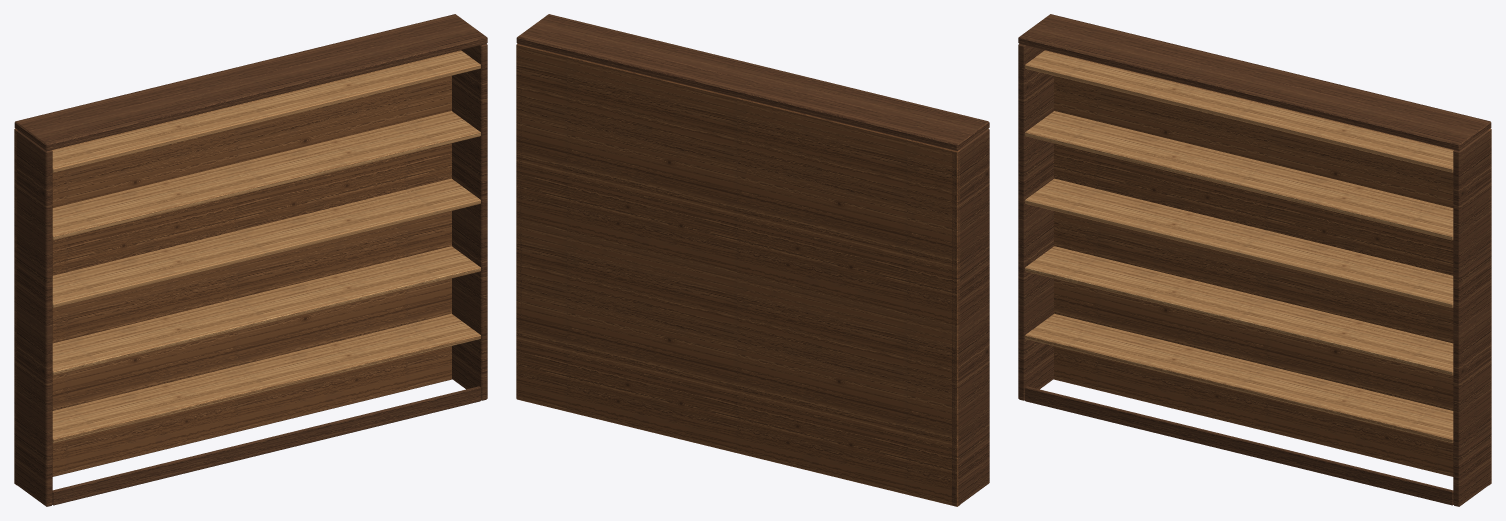
Rendered from open_shelf5.glb.
The picture shows the model from 3 angles, left to right: view 1: azimuth 30°, elevation 25°; view 2: azimuth 150°, elevation 25°; view 3: azimuth 330°, elevation 25°; orthographic projection.
Parts seen in each view (by area): view 1: p; view 2: p; view 3: p.
Part boxes in pixels (<box>): p: <box>14,14,487,506</box>; p: <box>516,14,989,506</box>; p: <box>1018,14,1491,506</box>.
Size of the model in its own units: 2.6 by 2.04 by 0.33.
Materials: 3 (3 with a texture image).
